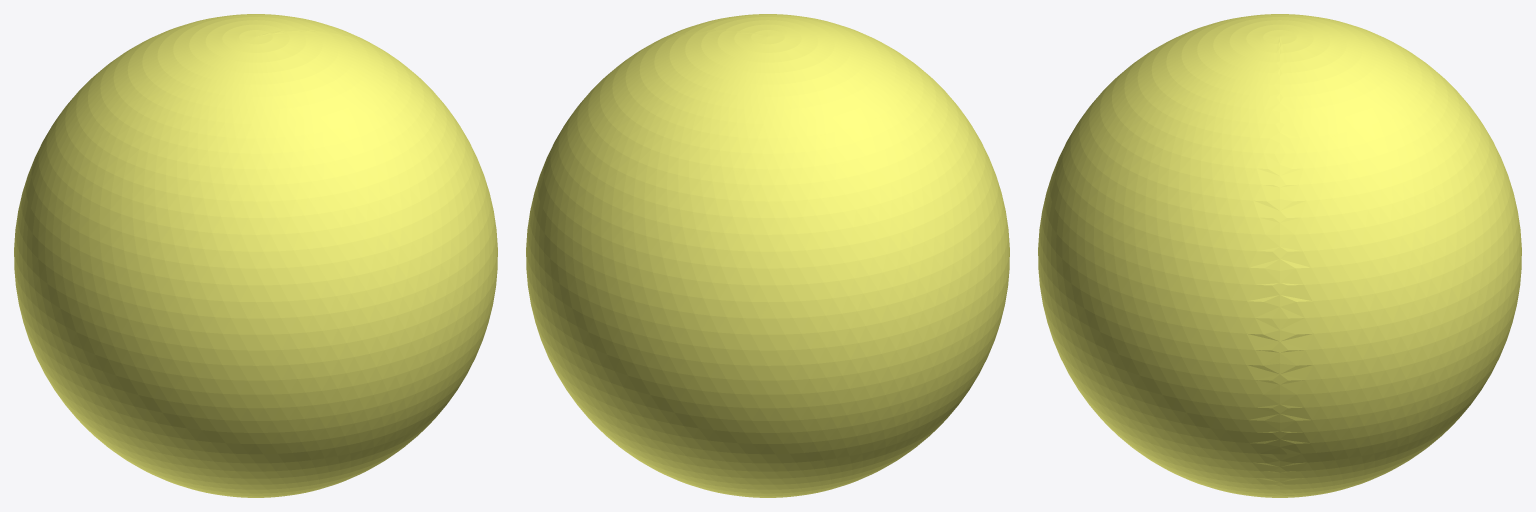
Rendered from pelota.dae.
3 renders of one model, left to right at view 1: azimuth 30°, elevation 25°; view 2: azimuth 150°, elevation 25°; view 3: azimuth 270°, elevation 25°, orthographic.
Parts seen in each view (by area): view 1: node0; view 2: node0; view 3: node0.
Part boxes in pixels (bbox=[...]): node0: bbox=[14, 14, 497, 497]; node0: bbox=[526, 14, 1009, 497]; node0: bbox=[1038, 14, 1521, 497].
Size of the model in its own units: 0.2227 by 0.2227 by 0.2228.
